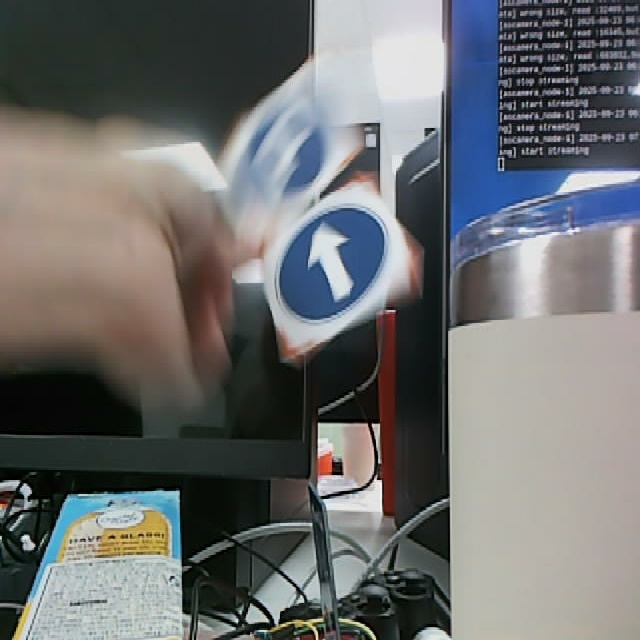straight: (259, 182, 413, 355)
